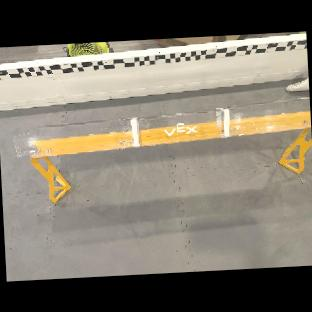Goal: (16, 104, 311, 165)
